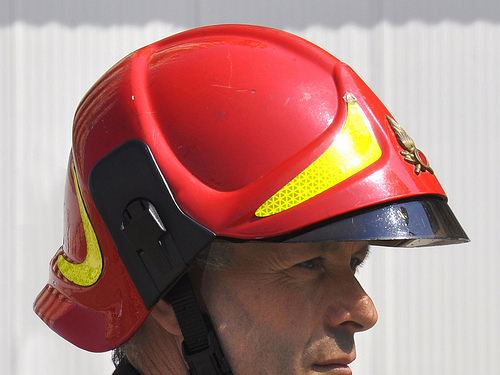helmet: (49, 46, 452, 264)
